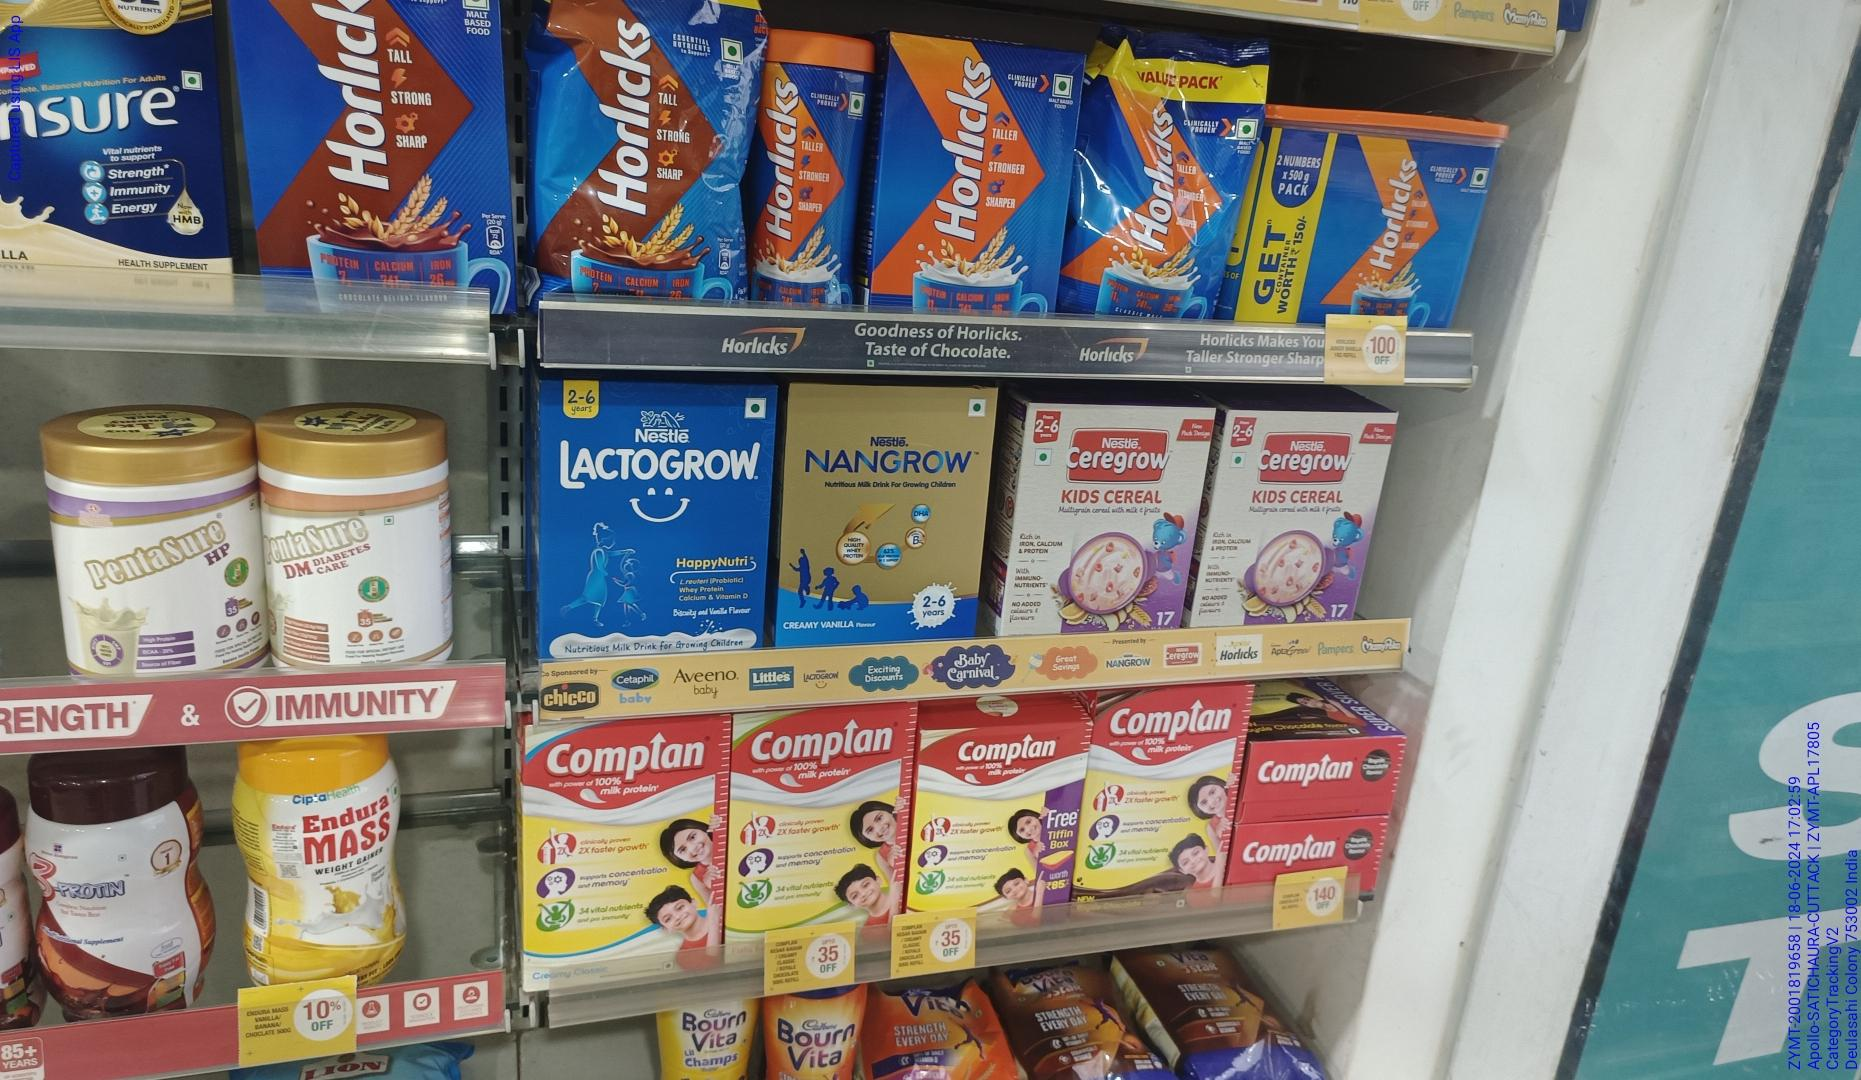COMPLAN_CHOCOLATE_500_GMS_PACK: (1083, 693, 1226, 910)
COMPLAN_CREAMY_CLASSIC_500_G_PACK: (523, 723, 722, 971)
COMPLAN_KESAR_BADAM_500_GMS_PACK: (914, 725, 1078, 910)
COMPLAN_PISTA_BADAM_500_GMS_PACK: (734, 714, 906, 924)
ENSURE_VANILLA_400_G_PACK: (3, 0, 218, 309)
HORLICK_CHOCOLATE_500_G_PACK: (239, 0, 513, 316)
HORLICK_CHOCOLATE_750_G_POUCH: (526, 0, 751, 303)
HORLICK_CLASSIC_MALT_500_G_JAR: (758, 28, 861, 310)
HORLICK_CLASSIC_MALT_500_G_PACK: (877, 46, 1073, 318)
HORLICK_CLASSIC_MALT_750_G_POUCH: (1086, 21, 1225, 315)
HORLICK_MALT_1_KG_CONTAINER: (1257, 108, 1490, 318)
